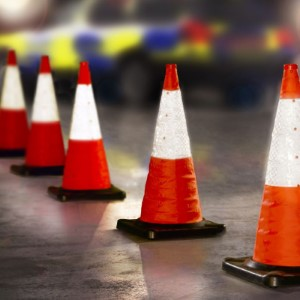traffic cone: (117, 63, 225, 239), (223, 63, 300, 290), (47, 61, 126, 202), (10, 55, 75, 179), (1, 48, 34, 159)
